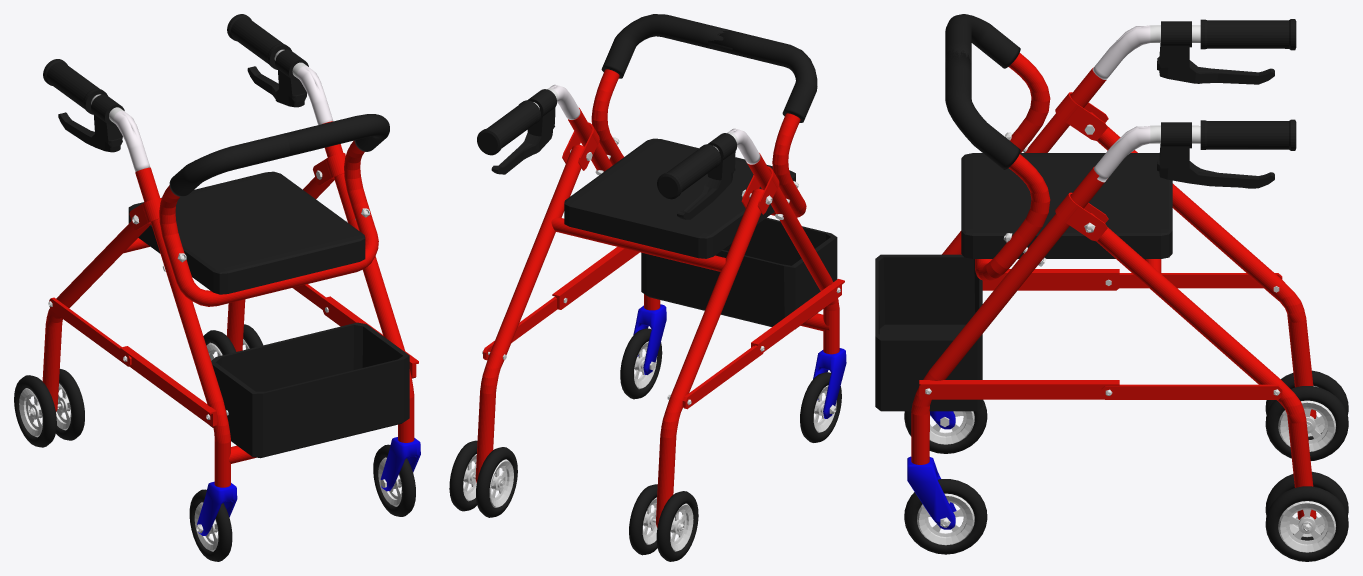
The model's file is burritos   avanzado.fbx.
3 views of the same model, side by side, from view 1: azimuth 30°, elevation 25°; view 2: azimuth 150°, elevation 25°; view 3: azimuth 270°, elevation 25° (orthographic). The views are drawn at different scales.
Visible parts, largest first — view 1: Cube, colchon, tob ant, goma.001, barra tras, pilar ras, asidera.001, asidera, bp, goma.005, goma.002, goma (+10 smaller); view 2: colchon, pilar ras, Cube, goma.001, tob ant, asidera, asidera.001, barra tras, barra plegable, bp, goma.005, goma.004 (+17 smaller); view 3: colchon, Cube, pilar ras, tob ant, asidera, asidera.001, goma.001, barra tras, barra plegable, barra pplegable 2, goma.003, goma (+15 smaller).
Part boxes in pixels (bbox=[...]): Cube: bbox=[211, 322, 409, 458]; colchon: bbox=[128, 171, 365, 294]; tob ant: bbox=[135, 121, 414, 487]; goma.001: bbox=[169, 114, 389, 196]; barra tras: bbox=[159, 140, 378, 306]; pilar ras: bbox=[42, 177, 334, 411]; asidera.001: bbox=[43, 59, 124, 152]; asidera: bbox=[227, 14, 308, 107]; bp: bbox=[120, 346, 216, 427]; goma.005: bbox=[14, 375, 56, 447]; goma.002: bbox=[189, 489, 232, 561]; goma: bbox=[373, 444, 415, 516]; colchon: bbox=[564, 138, 795, 258]; pilar ras: bbox=[475, 144, 763, 527]; Cube: bbox=[641, 217, 837, 329]; goma.001: bbox=[601, 14, 817, 122]; tob ant: bbox=[568, 108, 839, 354]; asidera: bbox=[477, 89, 556, 174]; asidera.001: bbox=[657, 133, 736, 219]; barra tras: bbox=[591, 69, 806, 217]; barra plegable: bbox=[552, 247, 639, 309]; bp: bbox=[751, 279, 844, 351]; goma.005: bbox=[656, 491, 698, 561]; goma.004: bbox=[476, 447, 517, 517]; colchon: bbox=[961, 153, 1172, 258]; Cube: bbox=[875, 254, 982, 411]; pilar ras: bbox=[1090, 112, 1316, 519]; tob ant: bbox=[911, 67, 1106, 464]; asidera: bbox=[1157, 119, 1296, 188]; asidera.001: bbox=[1157, 19, 1296, 84]; goma.001: bbox=[945, 14, 1020, 169]; barra tras: bbox=[975, 53, 1050, 281]; barra plegable: bbox=[919, 380, 1119, 399]; barra pplegable 2: bbox=[1101, 384, 1282, 399]; goma.003: bbox=[1265, 486, 1348, 561]; goma: bbox=[904, 479, 987, 554].
Size of what is drawn, in the model's own units: 133 by 226 by 215.
